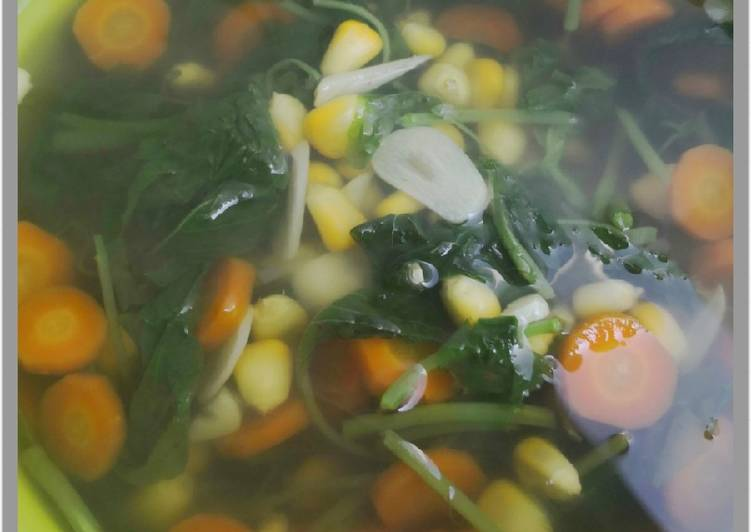Sayur Bayam: (22, 8, 721, 511)
